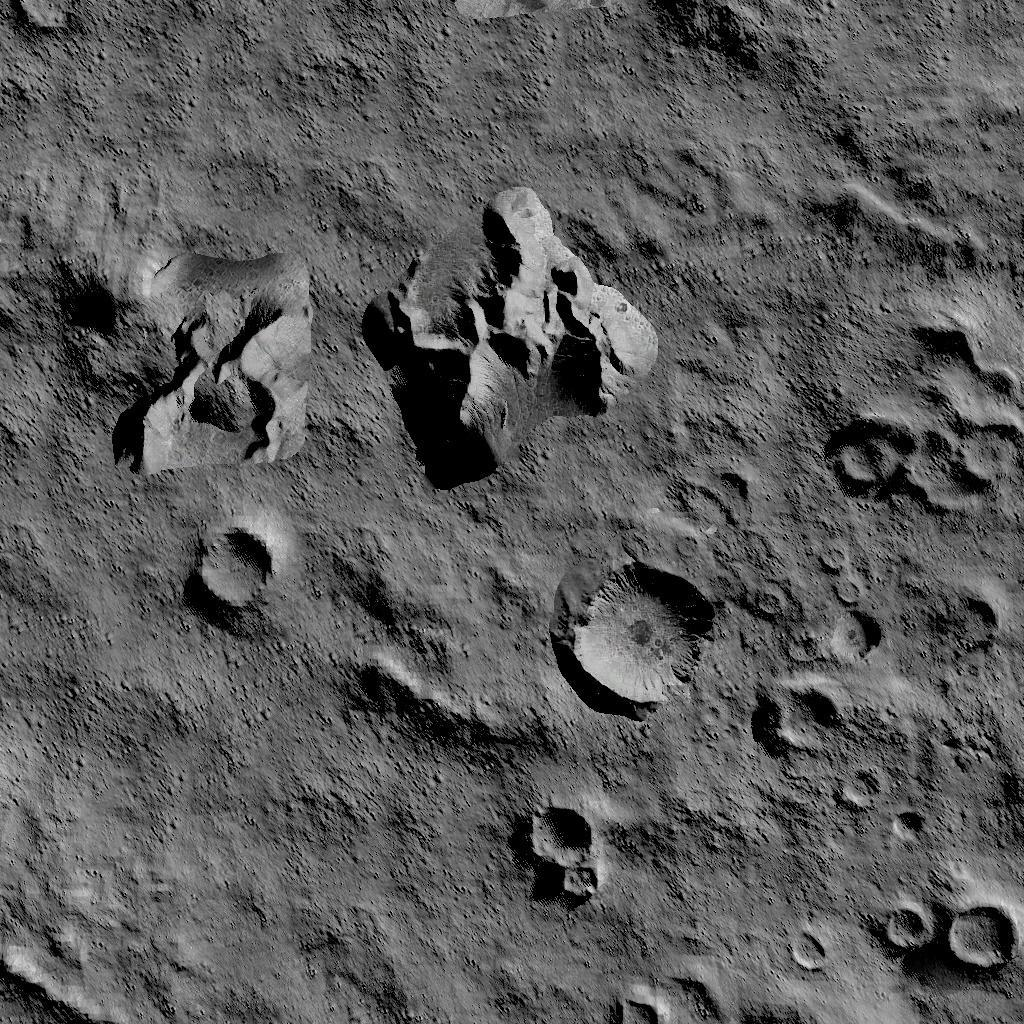Boulders: (0, 174, 311, 474), (364, 191, 654, 483), (814, 109, 1024, 267), (457, 0, 830, 88), (352, 654, 561, 756), (0, 943, 118, 1024)
Crater: (833, 324, 1024, 512), (572, 559, 713, 709), (880, 896, 1018, 970), (520, 799, 608, 902), (196, 528, 280, 612), (759, 672, 845, 752), (13, 0, 81, 35), (609, 990, 662, 1024)
Plan surface: (0, 485, 187, 935), (202, 768, 510, 1024), (94, 0, 446, 164), (841, 0, 1024, 99)
